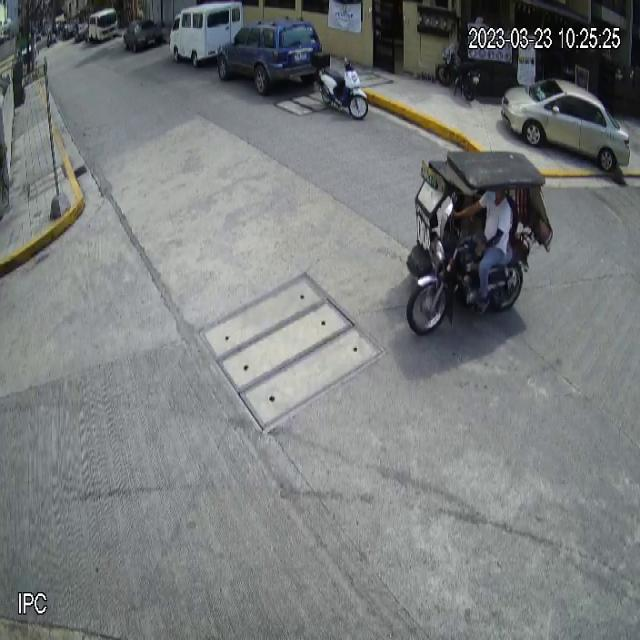Car: (501, 76, 631, 171), (219, 15, 325, 94)
Motorcycle: (312, 48, 369, 120)
Tricycle: (401, 149, 552, 337)
Van: (170, 1, 245, 67)
